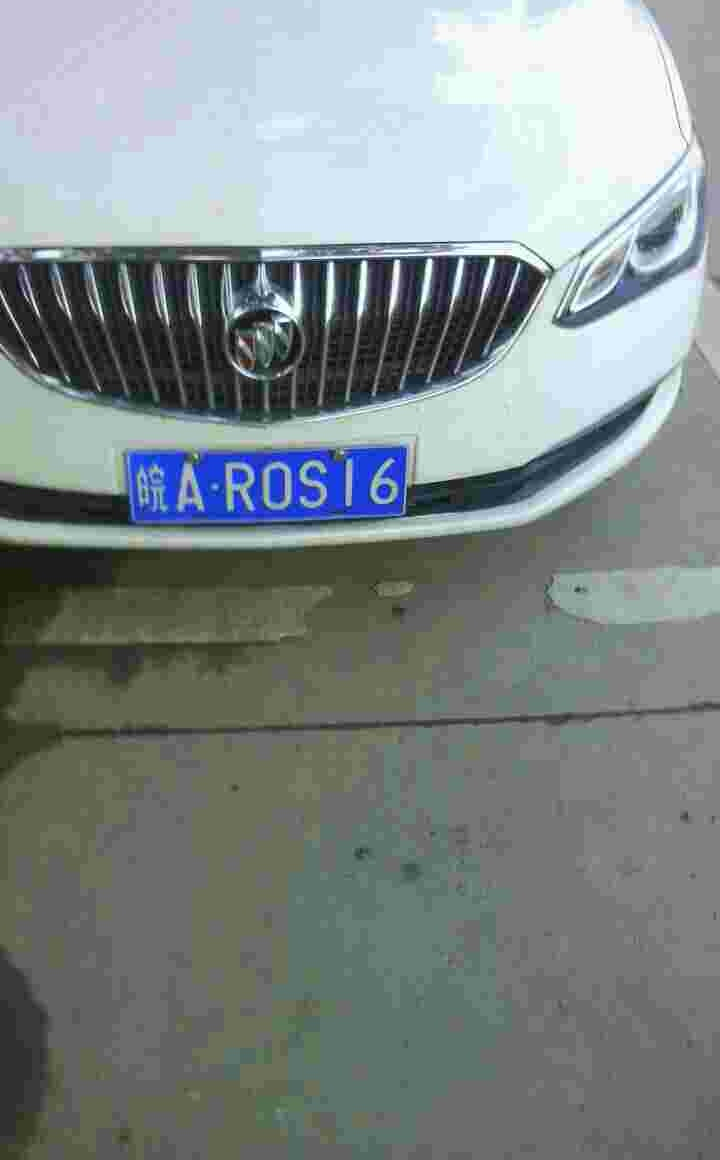plate: (131, 442, 416, 528)
